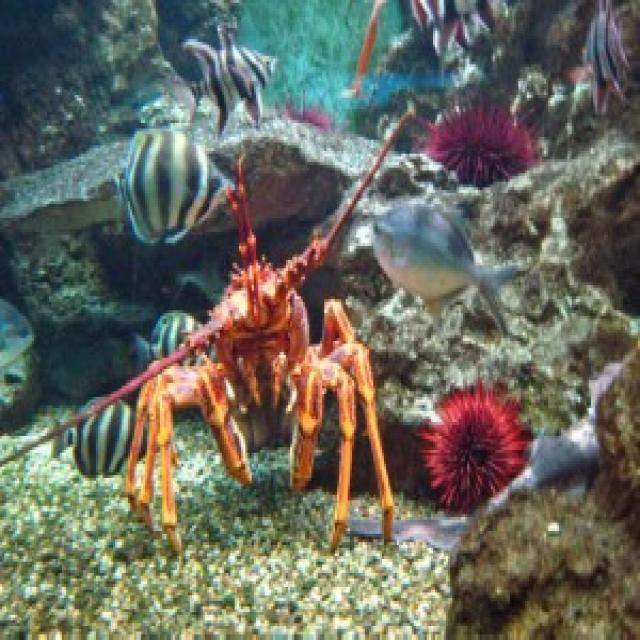lobsters: (43, 144, 444, 591)
